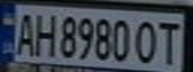0: (112, 16, 133, 63)
8: (54, 11, 78, 58), (93, 15, 115, 61)
9: (75, 12, 96, 61)
A: (12, 9, 39, 56)
H: (30, 9, 57, 57)
O: (133, 17, 163, 65)
T: (154, 18, 184, 65)
